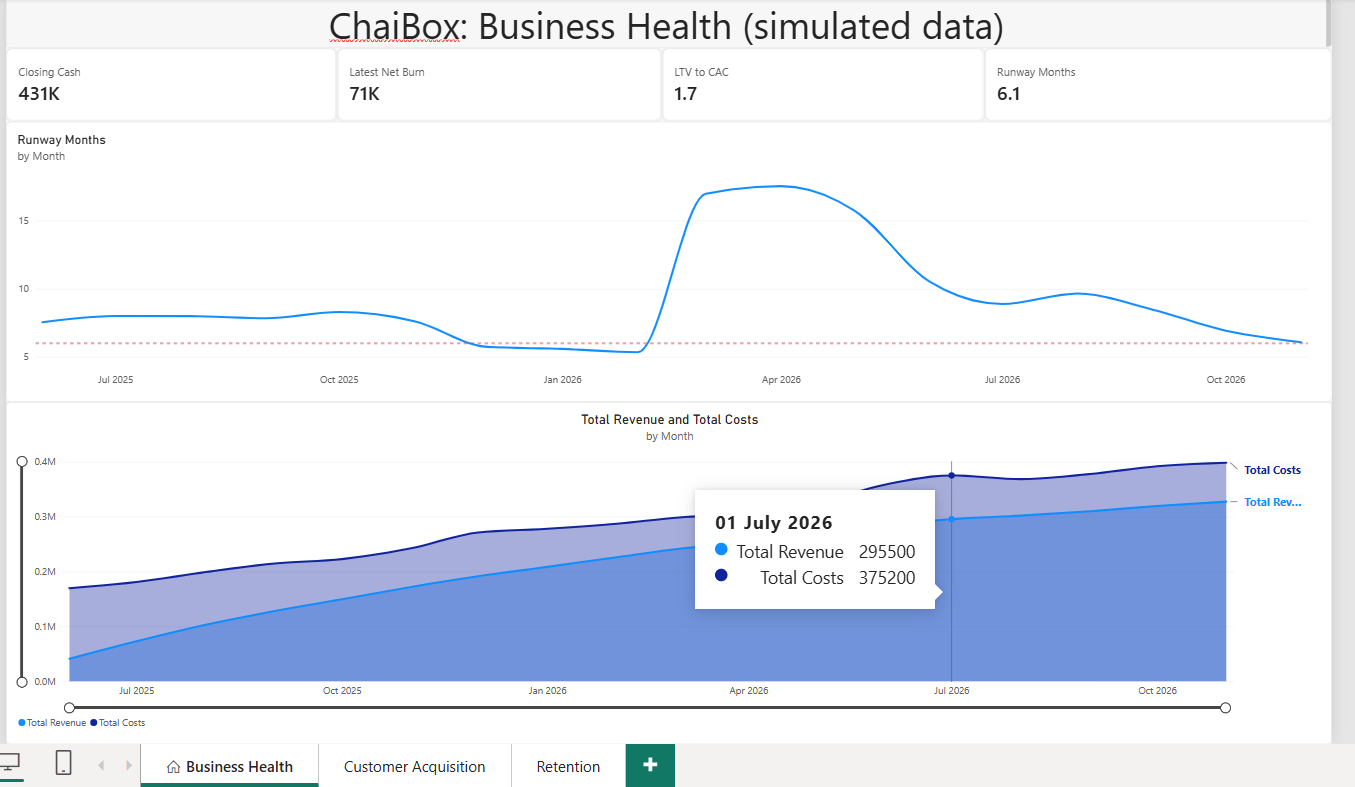

The page's visual inventory and layout, read from the dashboard file:
{"tool":"powerbi","page":{"name":"Business Health","canvas":[1920,1080],"ordinal":0},"visuals":[{"type":"textbox","box":[0,0,1920,72],"z":0},{"type":"cardVisual","fields":{"Data":["monthly_kpi_full.Closing Cash"]},"box":[0,72.4,479.6,106.8],"z":1000},{"type":"cardVisual","fields":{"Data":["monthly_kpi_full.Latest Net Burn"]},"box":[479.6,72.4,470.5,106.8],"z":2000},{"type":"cardVisual","fields":{"Data":["monthly_kpi_full.LTV to CAC"]},"box":[950.1,72.4,466.9,106.8],"z":3000},{"type":"cardVisual","fields":{"Data":["monthly_kpi_full.Runway Months"]},"box":[1417,72.4,503.1,106.8],"z":4000},{"type":"lineChart","fields":{"Category":["monthly_kpi_full.Month"],"Y":["monthly_kpi_full.Total Revenue","monthly_kpi_full.Total Costs"]},"box":[0,584.5,1920.1,495.8],"z":5000},{"type":"lineChart","fields":{"Category":["monthly_kpi_full.Month"],"Y":["monthly_kpi_full.Runway Months"]},"box":[0,179.2,1920.1,405.4],"z":6000}]}

Visuals, with their boxes on the page's 1920x1080 design canvas (x1, y1, x2, y2). These are canvas units, not pixel positions in the 1355x787 screenshot, which may show the page scaled, cropped or inside an application window:
textbox: [0, 0, 1920, 72]
cardVisual - monthly_kpi_full.Closing Cash: [0, 72, 480, 179]
cardVisual - monthly_kpi_full.Latest Net Burn: [480, 72, 950, 179]
cardVisual - monthly_kpi_full.LTV to CAC: [950, 72, 1417, 179]
cardVisual - monthly_kpi_full.Runway Months: [1417, 72, 1920, 179]
lineChart - monthly_kpi_full.Month x monthly_kpi_full.Total Revenue: [0, 584, 1920, 1080]
lineChart - monthly_kpi_full.Month x monthly_kpi_full.Runway Months: [0, 179, 1920, 585]
